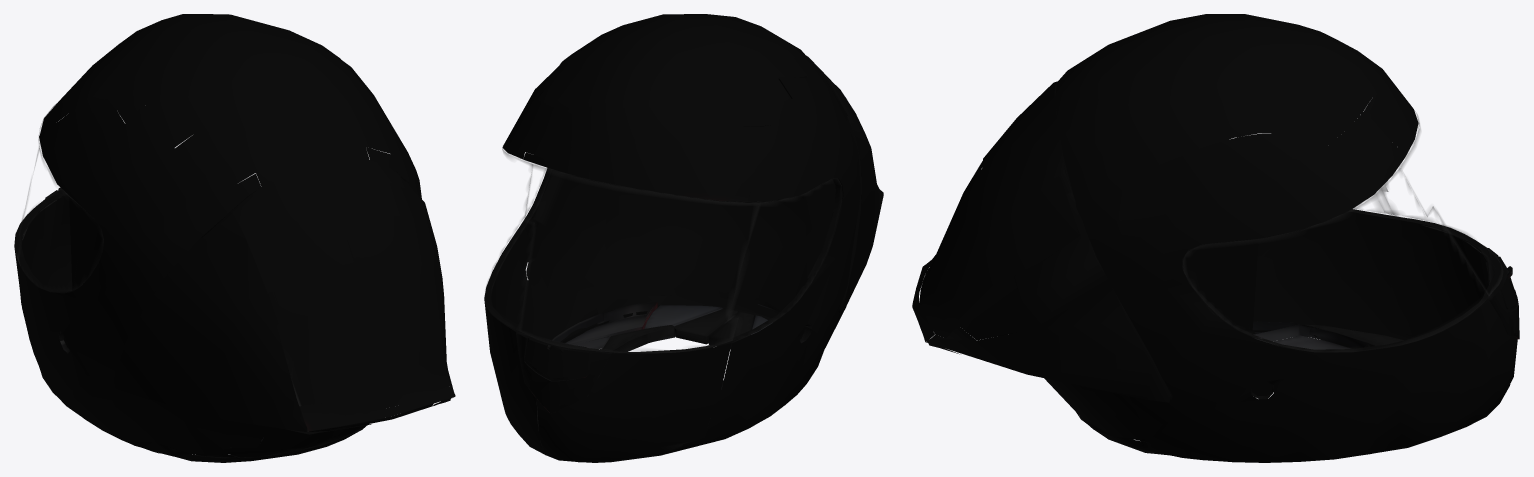
Rendered from SM_motorcycle_helmet_full_face.glb.
3 renders of one model, left to right at view 1: azimuth 30°, elevation 25°; view 2: azimuth 150°, elevation 25°; view 3: azimuth 270°, elevation 25°, orthographic. The views are drawn at different scales.
Visible parts, largest first — view 1: SM_motorcycle_helmet_full_face; view 2: SM_motorcycle_helmet_full_face; view 3: SM_motorcycle_helmet_full_face.
Boxes of the visible parts, x1,y1,x2,y2 form: SM_motorcycle_helmet_full_face: [14, 14, 455, 462]; SM_motorcycle_helmet_full_face: [484, 14, 883, 462]; SM_motorcycle_helmet_full_face: [912, 14, 1519, 462].
Size of the model in its own units: 3.08 by 3.5 by 5.17.
Materials: 1 (1 with a texture image).
